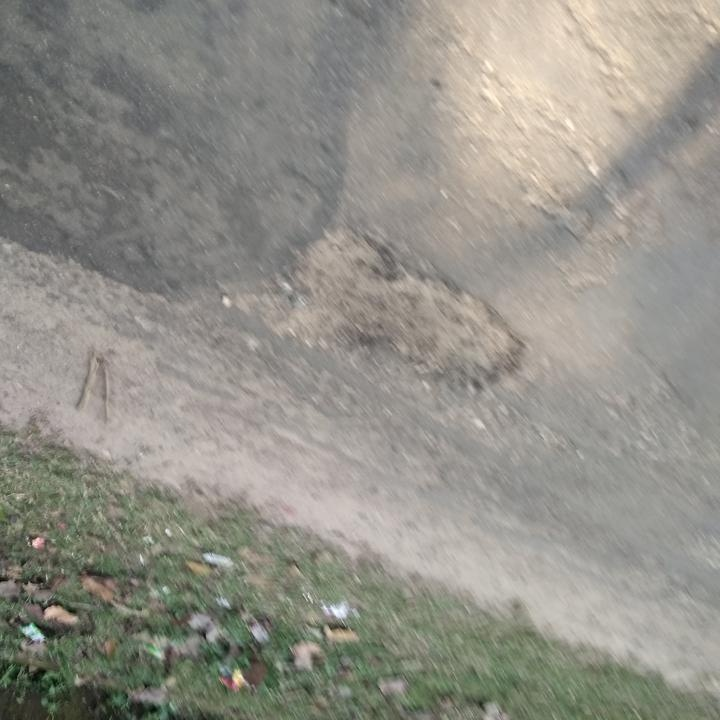pothole: (283, 228, 531, 395)
